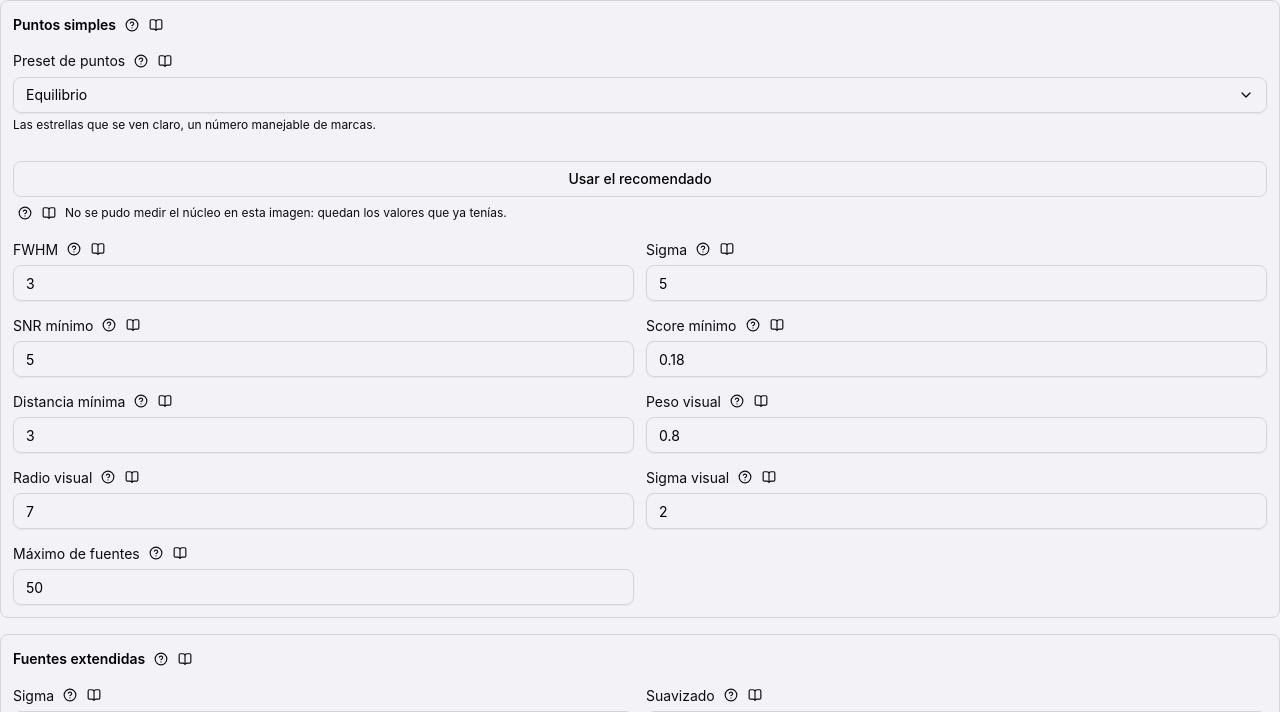
Test: SourceDetectionForm con preset recomendado › conserva lo que el usuario había escrito antes de pedirlo
The image size is (1280, 712).
Replace the text in the field with test id "source-field-min_snr" with "42" at (324, 359), box 13,341 -> 634,377
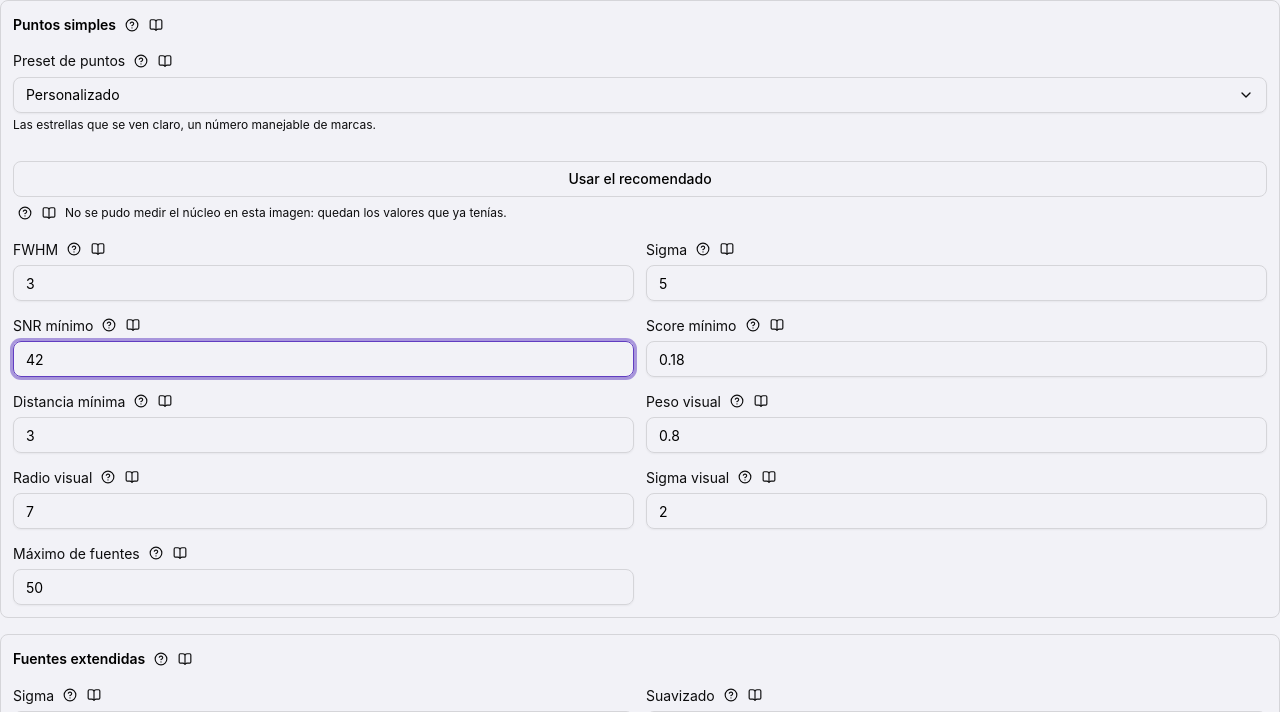
Click the button with test id "source-best-preset" at (640, 179), box 13,161 -> 1267,197
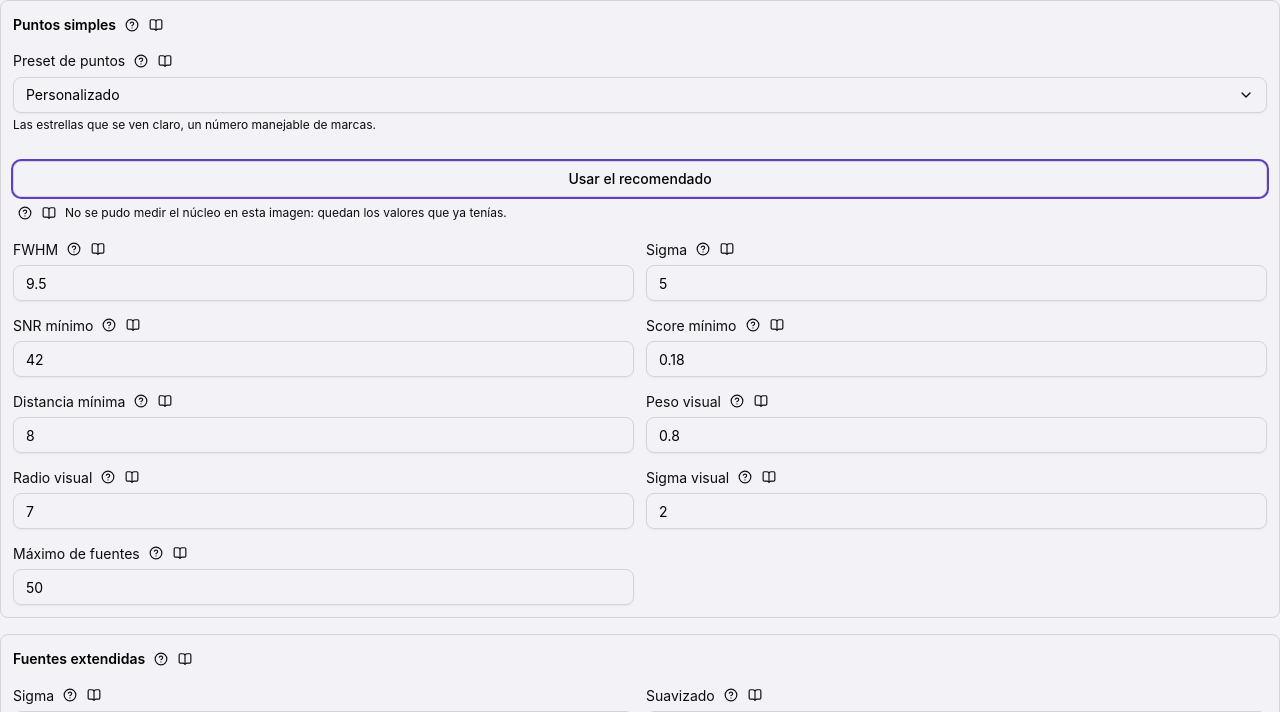
Expected: the field with test id "source-field-fwhm" holds "9.5", 13,265 -> 634,301
